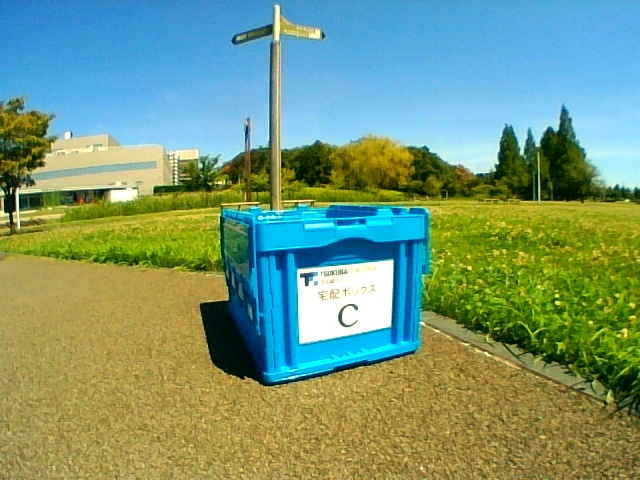blue_box: (263, 210, 419, 351)
tag_c: (311, 272, 381, 330)
